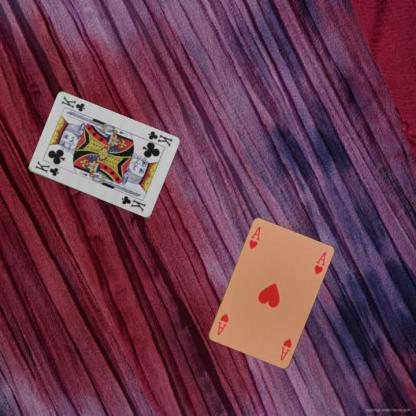Ah: (246, 223, 262, 250), (278, 336, 293, 362)
Kc: (32, 158, 60, 178), (146, 128, 173, 148)
